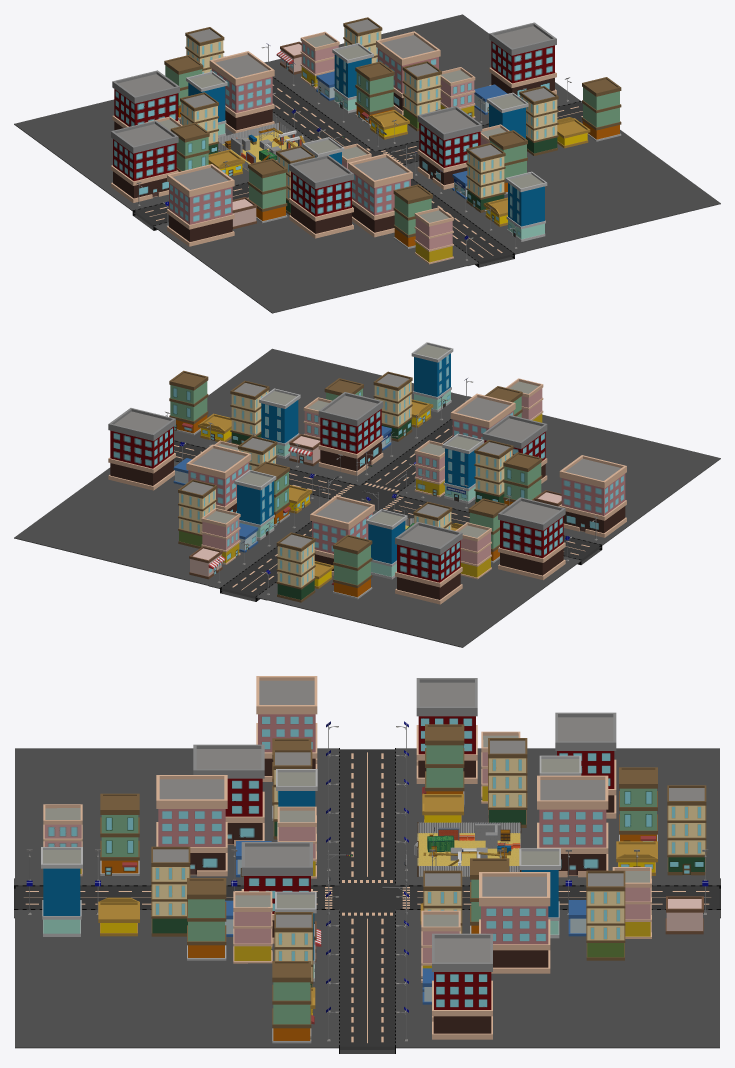
File: Full Chase Tag Map.fbx
3 views of the same model, one above another, from view 1: azimuth 30°, elevation 25°; view 2: azimuth 150°, elevation 25°; view 3: azimuth 270°, elevation 25° (orthographic). The views are drawn at different scales.
Parts seen in each view (by area): view 1: Map Background, Map Barrier, Ground; view 2: Map Background; view 3: Map Background, Ground, Map Barrier.
Boxes of the visible parts, <box> form: Map Background: <box>14,14,720,313</box>; Map Barrier: <box>218,122,306,171</box>; Ground: <box>218,130,297,171</box>; Map Background: <box>14,342,720,647</box>; Map Background: <box>14,676,720,1053</box>; Ground: <box>417,833,520,876</box>; Map Barrier: <box>414,822,521,876</box>.
Bounding box in the file's own units: 16591 × 2138 × 16583.
